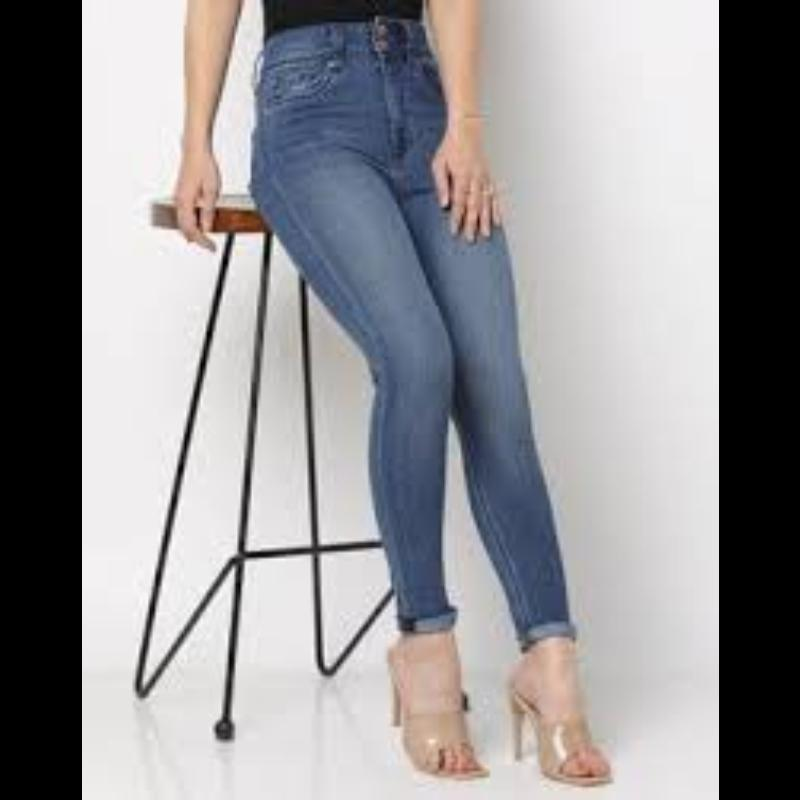Jeans: (230, 19, 616, 694)
